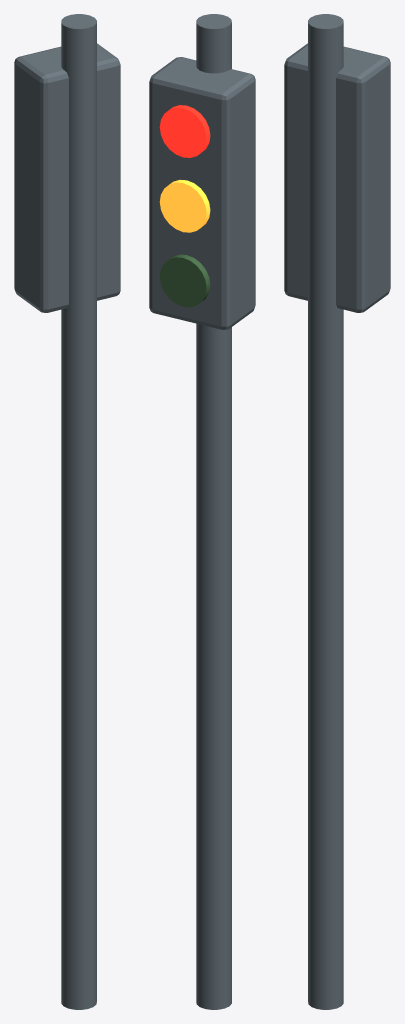
Rendered from TrafficSignal.fbx.
3 views of the same model, side by side, from view 1: azimuth 30°, elevation 25°; view 2: azimuth 150°, elevation 25°; view 3: azimuth 330°, elevation 25° (orthographic).
Visible parts, largest first — view 1: Body.041; view 2: Body.041; view 3: Body.041.
Boxes of the visible parts, x1=… form: Body.041: x1=14, y1=14, x2=120, y2=1009; Body.041: x1=149, y1=14, x2=255, y2=1009; Body.041: x1=284, y1=14, x2=390, y2=1009.
Bounding box in the file's own units: 0.36 × 4.2 × 0.31.
